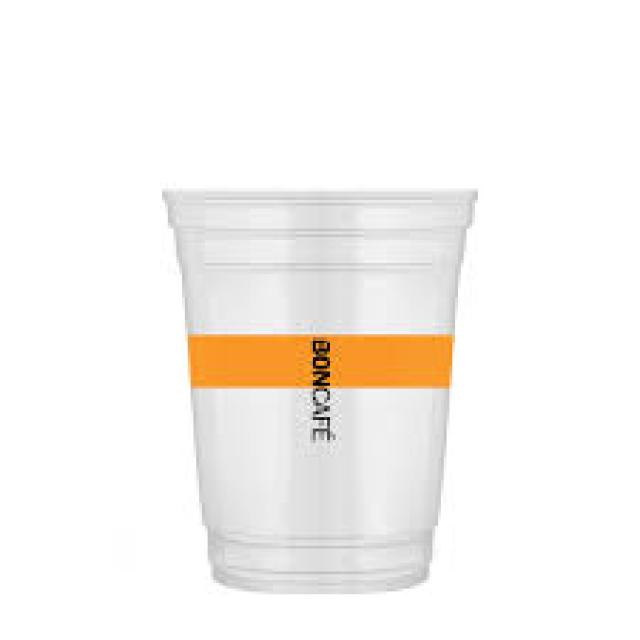cup: (143, 154, 504, 614)
